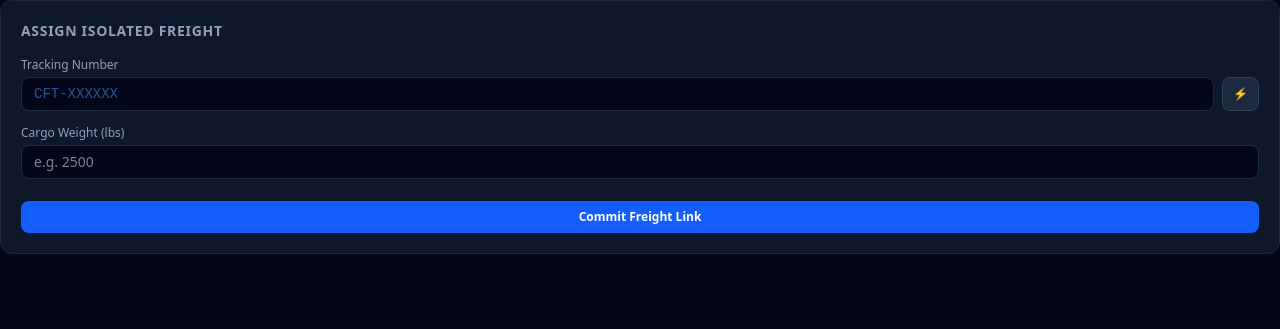
Test: ShipmentForm Component Integration Pipeline › should capture and render backend validation messages when context mapping criteria fails
This screenshot has width=1280, height=329.
Type "CFT-000000" into the field labelled "Tracking Number".
click(618, 94); type("CFT-000000")  # box [21, 77, 1214, 111]
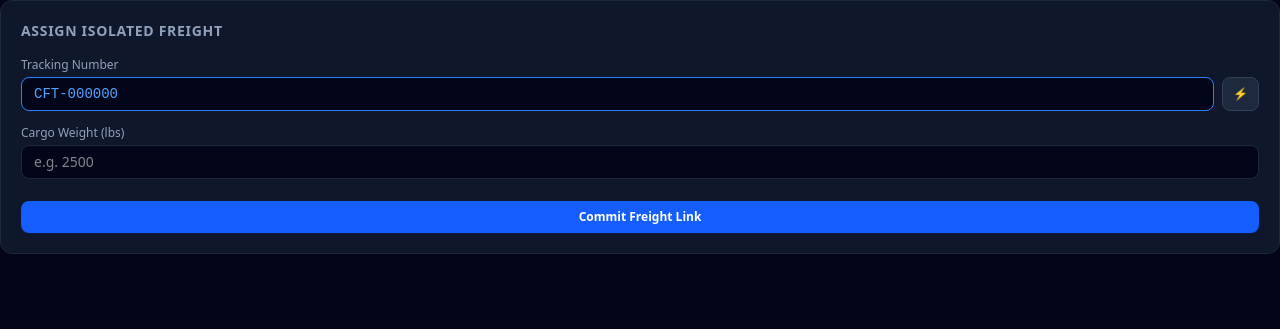
Type "1000" into the number field labelled "Cargo Weight (lbs)".
click(640, 162); type("1000")  # box [21, 145, 1259, 179]
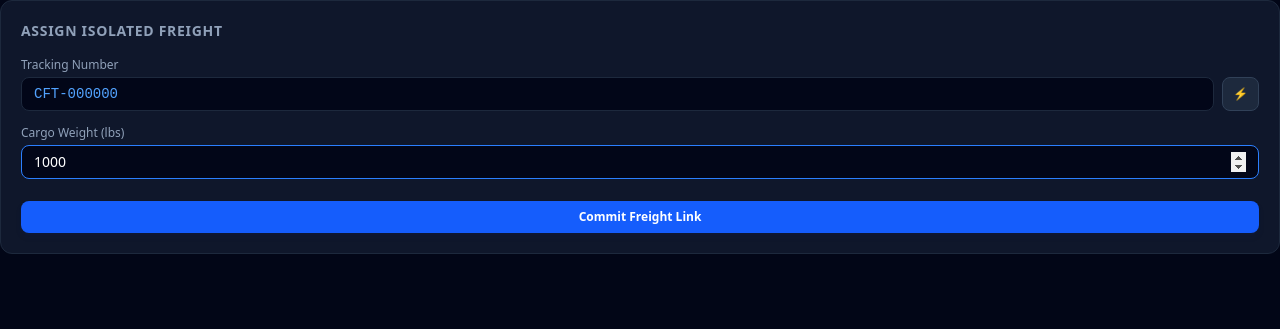
Click the button "Commit Freight Link".
click(640, 217)  # box [21, 201, 1259, 233]
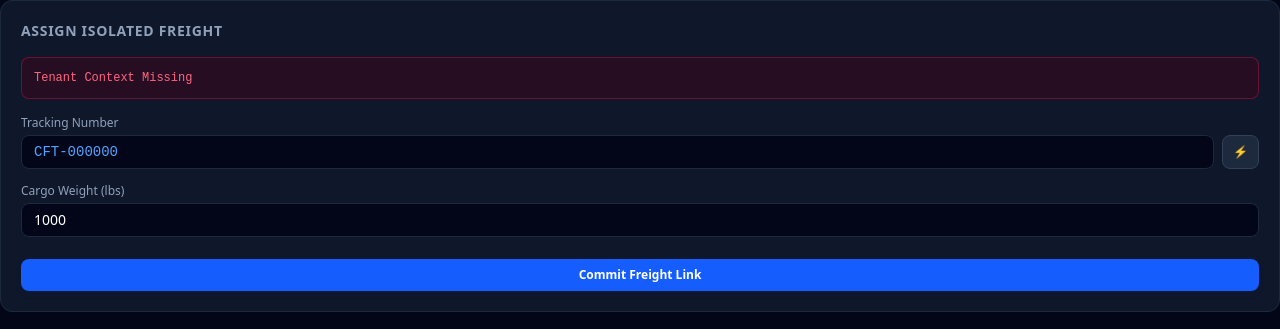
Now the text "Tenant Context Missing" is shown, box [21, 57, 1259, 99]
